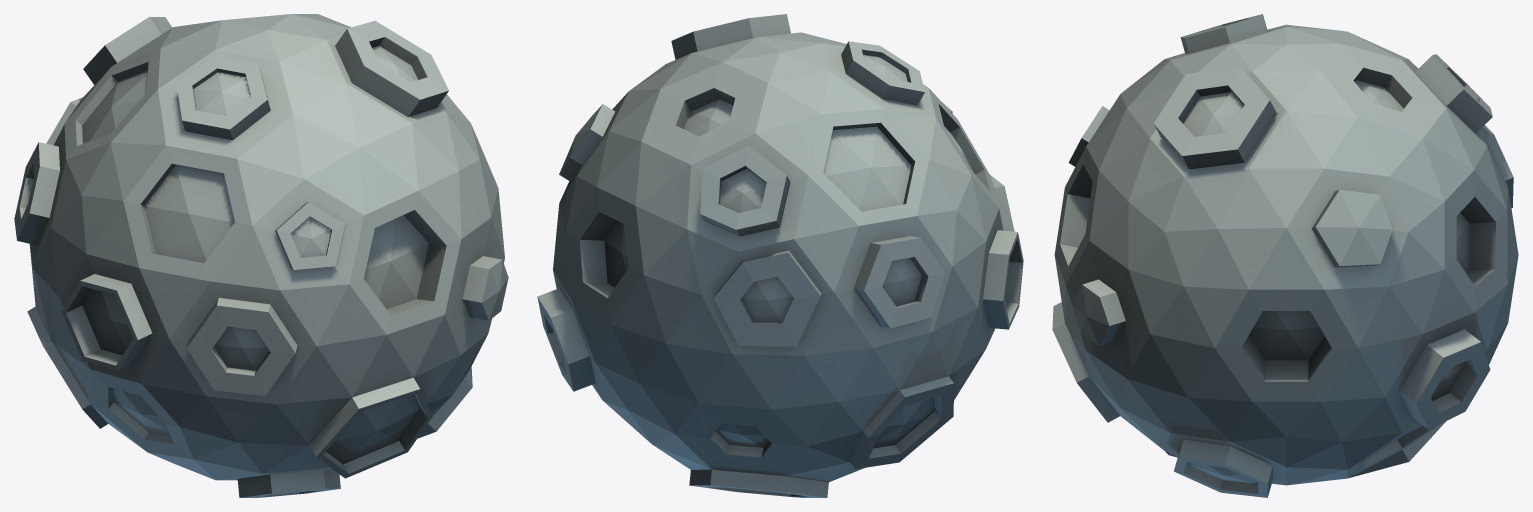
The model's file is Moon.glb.
3 views of the same model, side by side, from view 1: azimuth 30°, elevation 25°; view 2: azimuth 150°, elevation 25°; view 3: azimuth 270°, elevation 25° (orthographic). The views are drawn at different scales.
Visible parts, largest first — view 1: moon; view 2: moon; view 3: moon.
Boxes of the visible parts, box(x1,y1,x2,y2) form: moon: box(14, 14, 508, 497); moon: box(537, 14, 1023, 497); moon: box(1052, 14, 1518, 497).
Bounding box in the file's own units: 1.63 × 1.66 × 1.63.
Materials: 1 (1 with a texture image).
